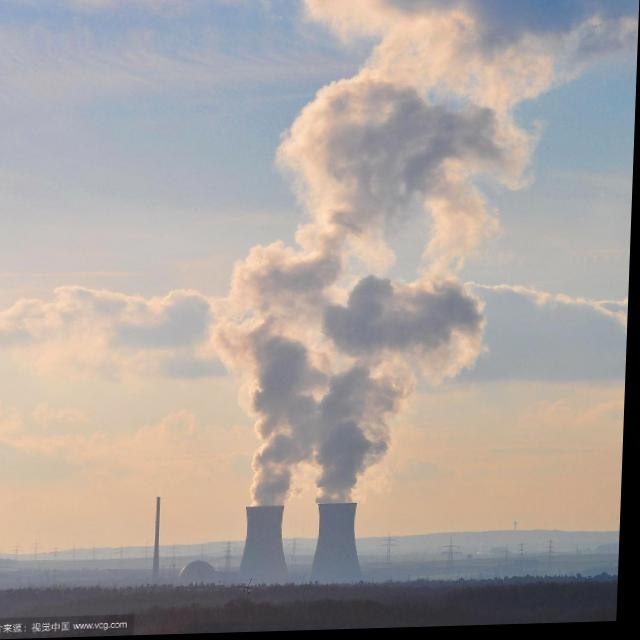smoke: (310, 85, 477, 200), (332, 281, 479, 368), (245, 342, 306, 505), (310, 379, 380, 504), (244, 256, 337, 314)
